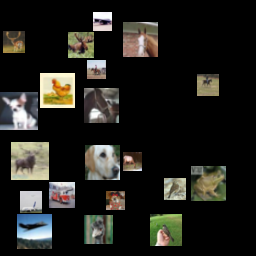airplane: (196, 49, 225, 78), (81, 128, 107, 154), (178, 103, 200, 125)
automobile: (17, 159, 52, 194), (87, 48, 106, 67)
cat: (133, 96, 159, 122)
deer: (131, 22, 160, 51), (41, 102, 60, 121)
dog: (194, 143, 223, 172), (210, 100, 239, 129), (156, 55, 175, 74)
frog: (154, 146, 192, 184), (10, 106, 36, 132), (110, 188, 136, 214)
ship: (180, 16, 199, 35), (23, 212, 39, 228)
